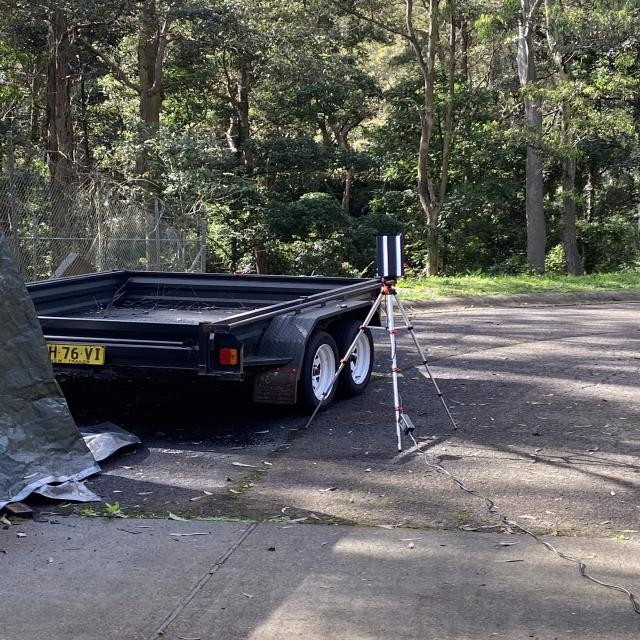matrix: (372, 228, 411, 286)
